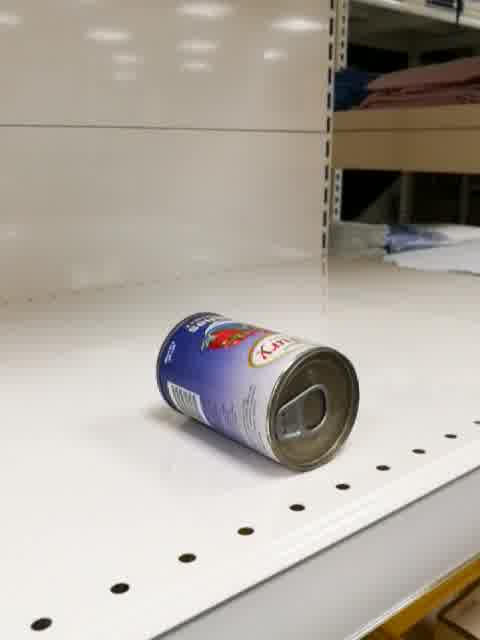sardine: (155, 311, 360, 472)
